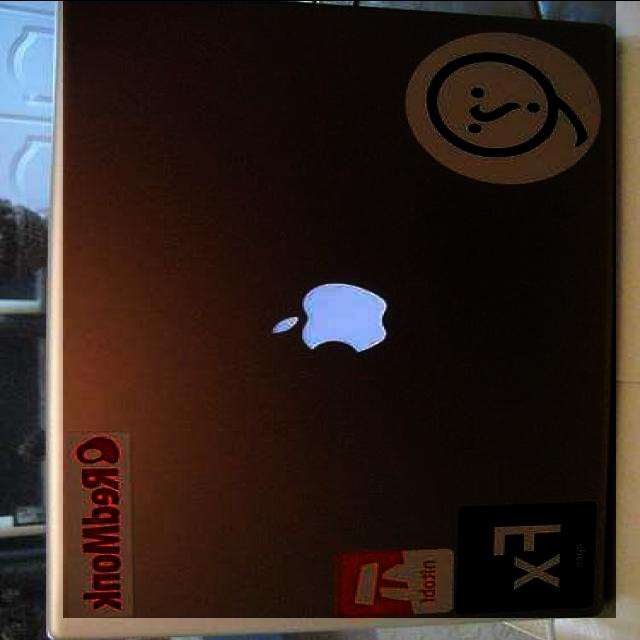-keyboard-: (63, 0, 616, 618)
